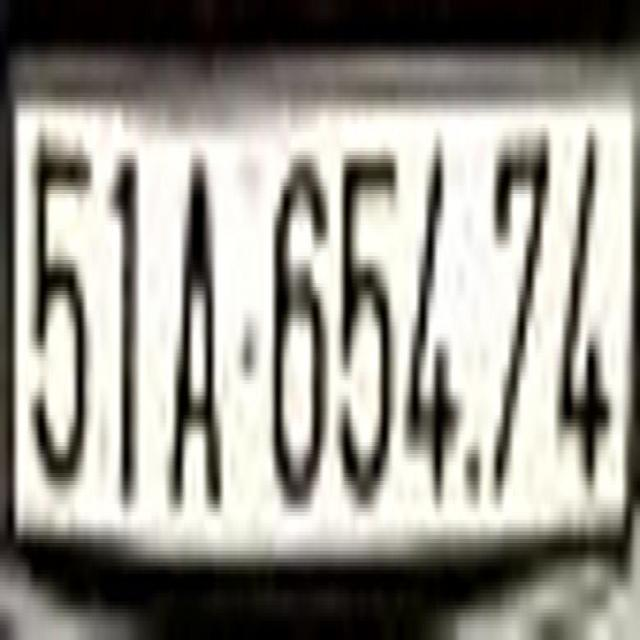1: (120, 167, 140, 520)
4: (561, 148, 614, 500), (408, 159, 456, 493)
5: (34, 128, 89, 496), (342, 140, 388, 497)
6: (272, 128, 322, 512)
7: (492, 128, 544, 496)
A: (168, 143, 218, 516)
